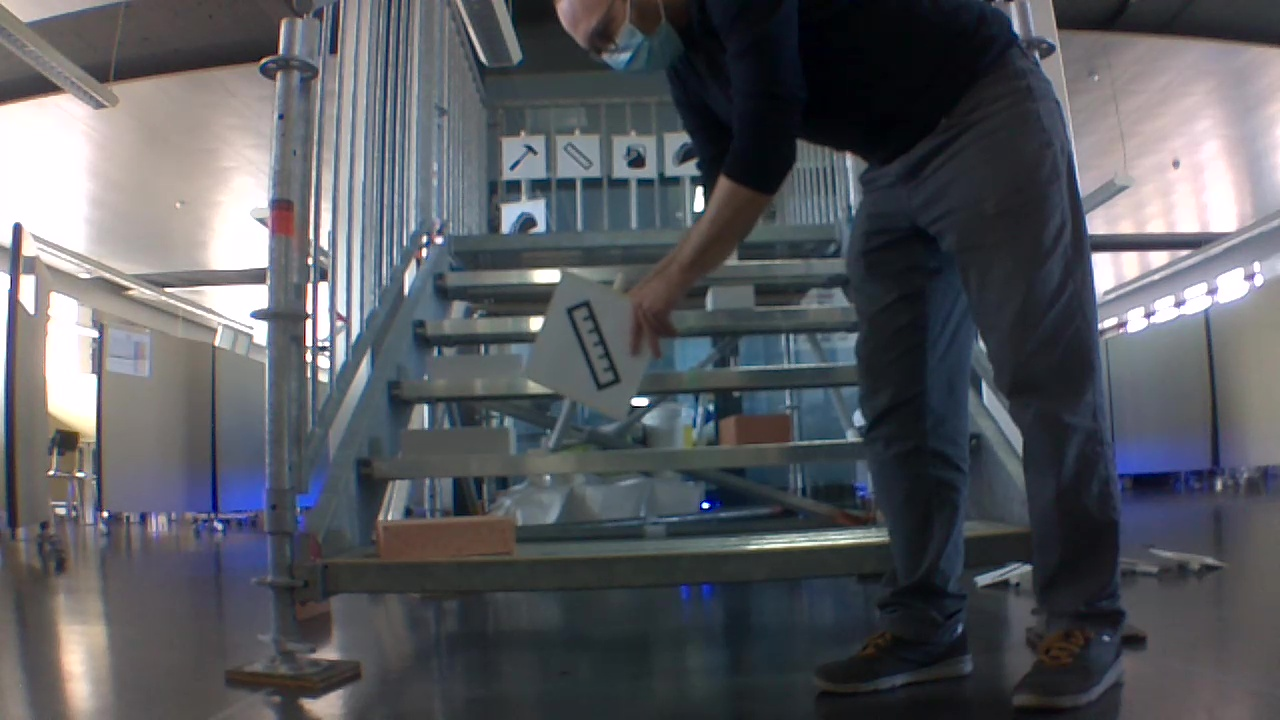brick: (377, 512, 520, 561), (402, 427, 514, 455), (428, 352, 528, 381), (720, 413, 793, 443), (706, 284, 754, 311)
bucket: (622, 143, 649, 173)
hammer: (508, 144, 539, 173)
ruler: (559, 293, 626, 388), (563, 140, 594, 172)
taco: (505, 206, 542, 239), (673, 137, 695, 170)
